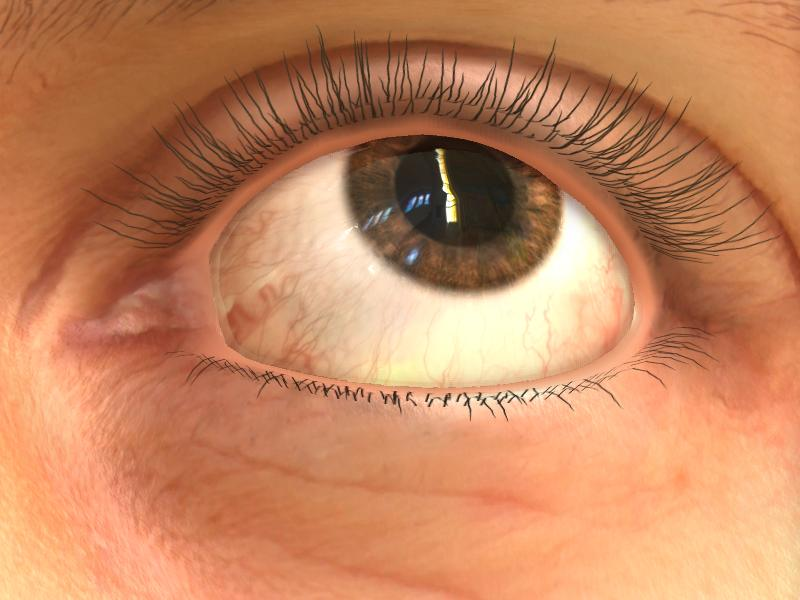eye: (344, 134, 564, 292)
